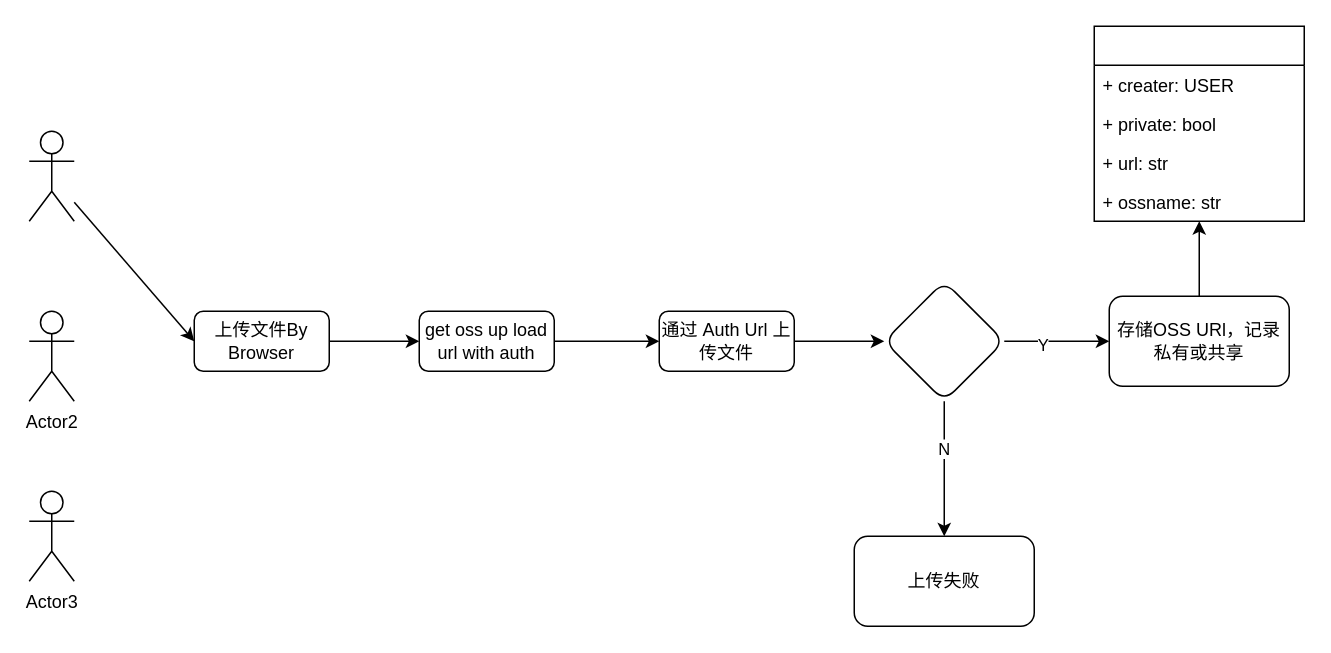
Some shapes in this 1331 by 653 pixel diagram are drawn without their labels. Each missing label, with the box of its shape:
Actor1: (28, 130, 74, 221)
BAT_OSS: (1093, 25, 1304, 221)
上传成功: (883, 280, 1004, 401)
